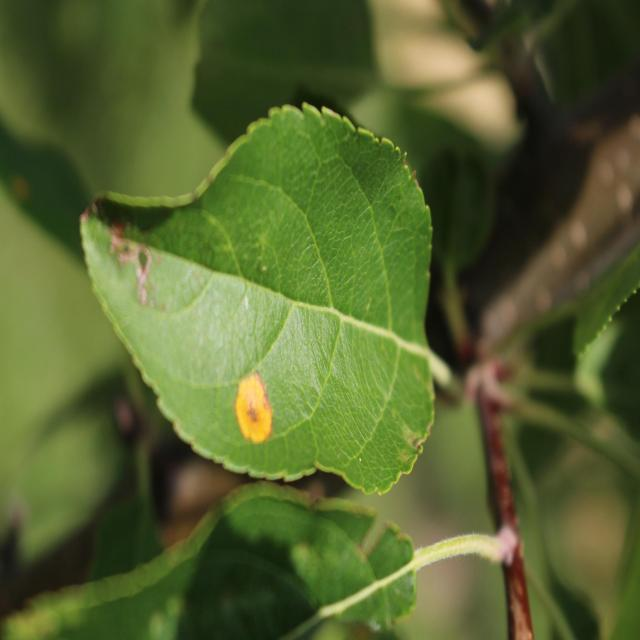Rust: (230, 354, 283, 452)
